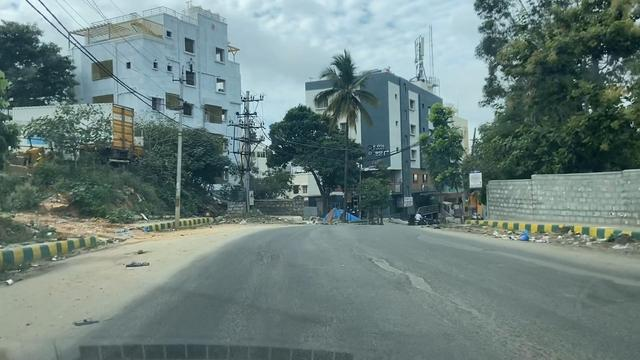RoadDamages: (340, 239, 472, 327)
